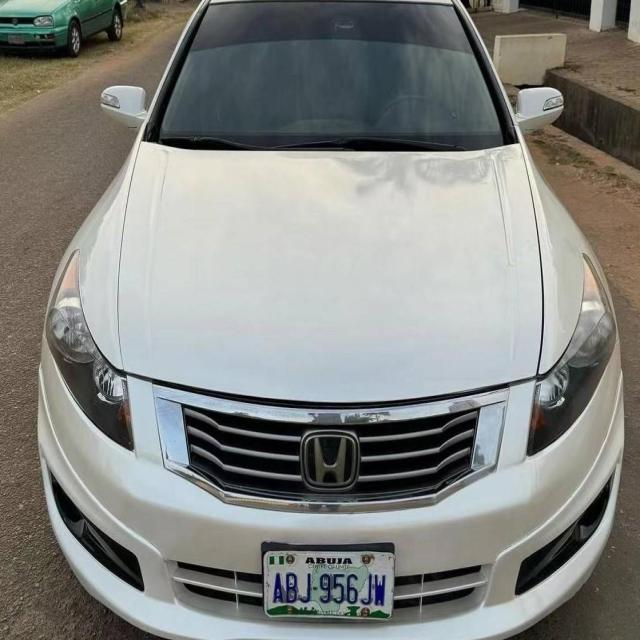Nigerian License Plate - vdataset benjamin-daria: (258, 544, 399, 626)
